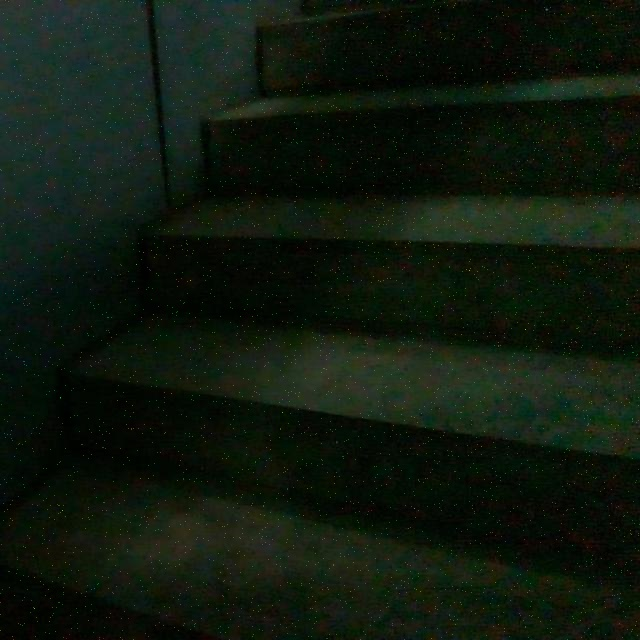stair: (23, 0, 640, 633)
